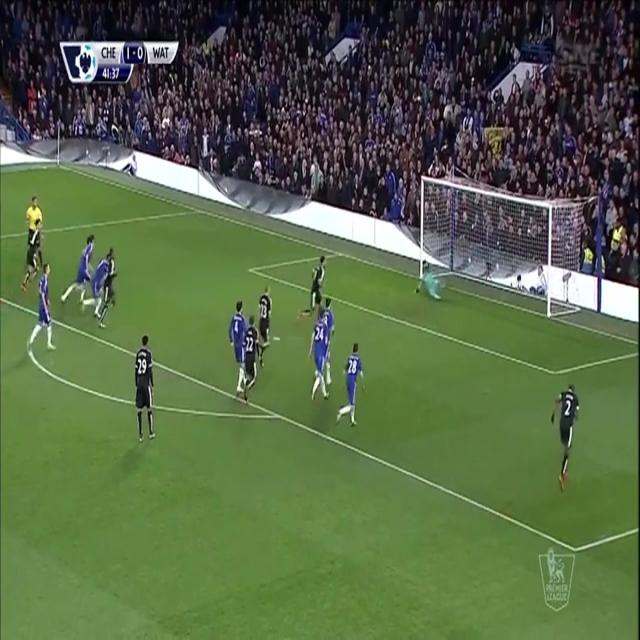Goalkeeper: (411, 266, 445, 305)
Player: (548, 379, 582, 491), (333, 340, 367, 428), (59, 229, 96, 307), (26, 266, 58, 355), (292, 253, 333, 320), (133, 334, 157, 448), (306, 310, 329, 410), (80, 255, 112, 319), (241, 314, 263, 406), (19, 217, 42, 298), (228, 298, 245, 400), (98, 246, 118, 330), (258, 281, 274, 369)
Referee: (26, 194, 43, 238)
